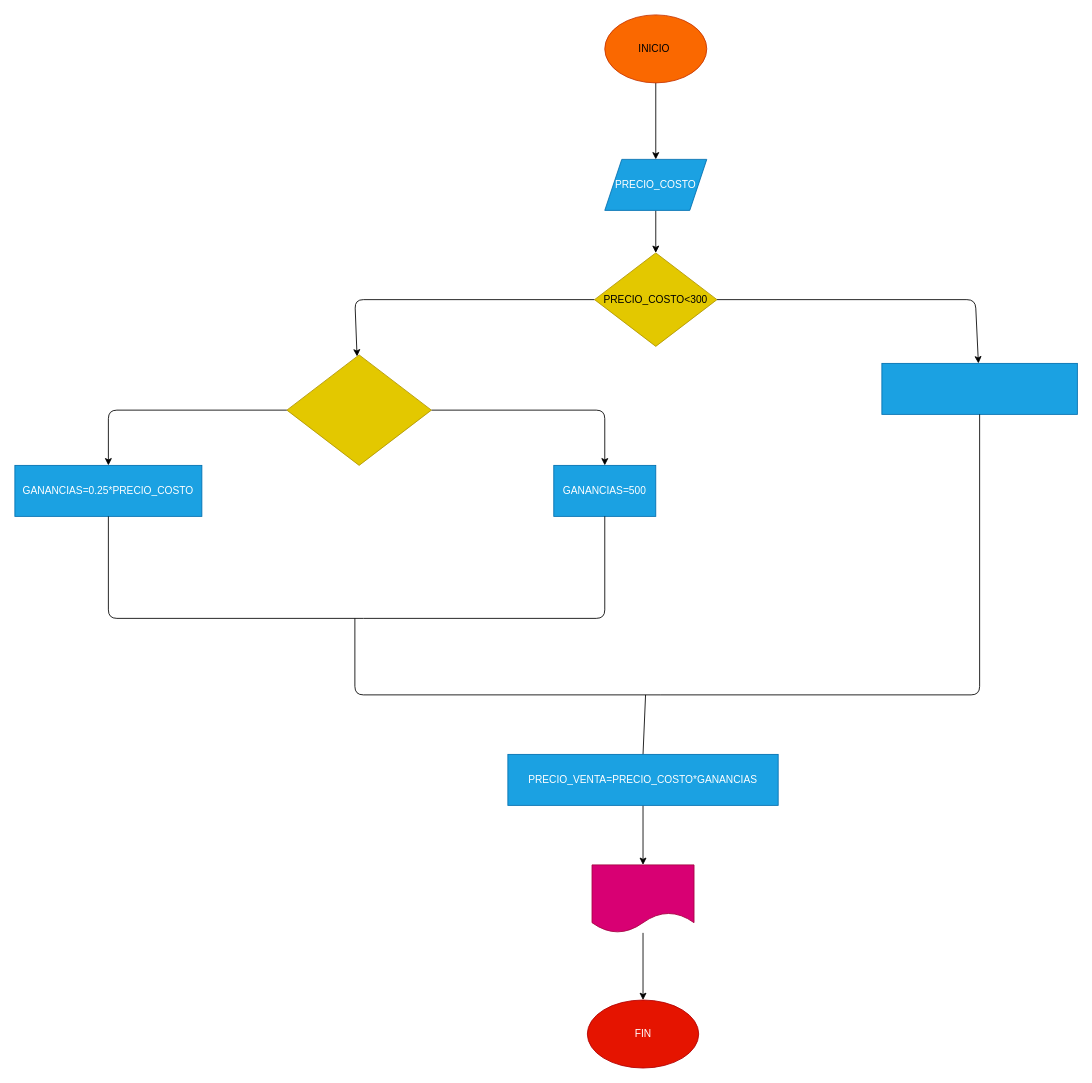
Image size: 1092x1083. Some labels were removed from this diagram. Each missing label, with the box of its shape:
GANANCIAS=0.15*PRECIO_COSTO: (881, 363, 1077, 414)
PRECIO_COSTO<=6000: (286, 354, 431, 465)
PRECIO_VENTA: (591, 864, 694, 933)
